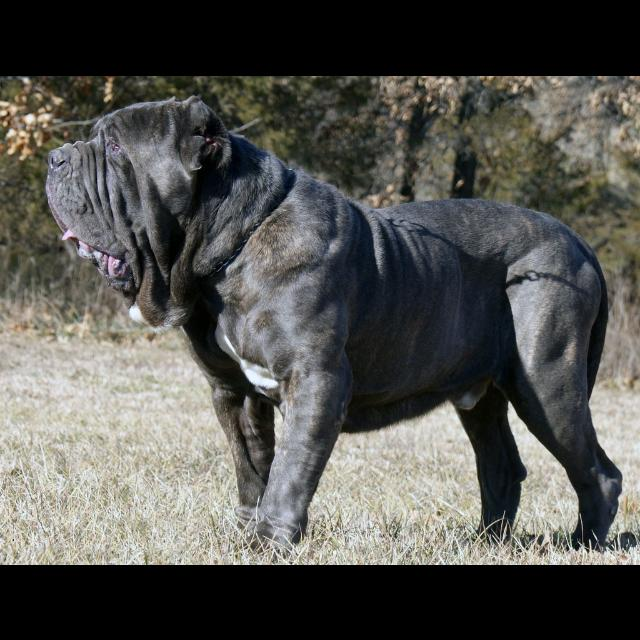mastino_napoletano: (46, 95, 631, 560)
